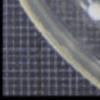white: (81, 0, 100, 23)
